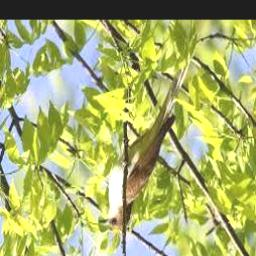Cuckoo: (99, 57, 191, 231)
